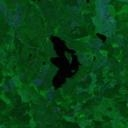alloviz: (47, 34, 81, 90), (94, 31, 107, 43)
